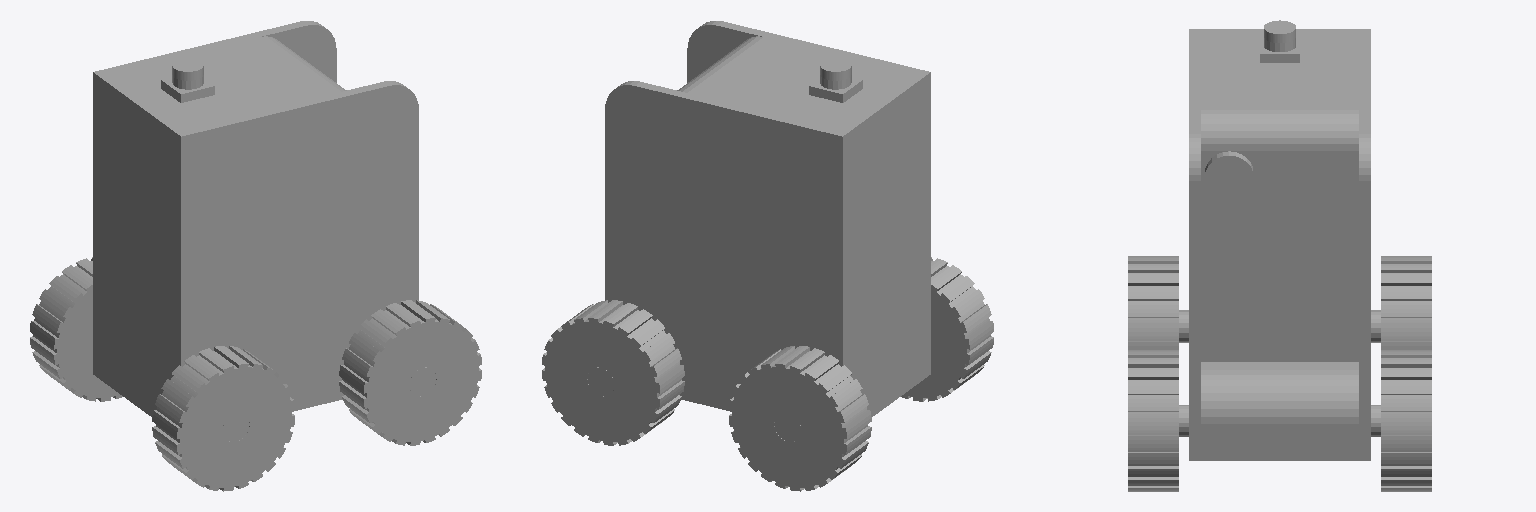
The robot description file, URDF, robot "jannat2":
<?xml version="1.0" encoding="utf-8"?>
<!-- =================================================================================== -->
<!-- |    This document was autogenerated by xacro from jannat2.xacro                  | -->
<!-- |    EDITING THIS FILE BY HAND IS NOT RECOMMENDED                                 | -->
<!-- =================================================================================== -->
<robot name="jannat2">
  <material name="silver">
    <color rgba="0.700 0.700 0.700 1.000"/>
  </material>
  <transmission name="wheel1_jt_tran">
    <type>transmission_interface/SimpleTransmission</type>
    <joint name="wheel1_jt">
      <hardwareInterface>hardware_interface/EffortJointInterface</hardwareInterface>
    </joint>
    <actuator name="wheel1_jt_actr">
      <hardwareInterface>hardware_interface/EffortJointInterface</hardwareInterface>
      <mechanicalReduction>1</mechanicalReduction>
    </actuator>
  </transmission>
  <transmission name="wheel3_jt_tran">
    <type>transmission_interface/SimpleTransmission</type>
    <joint name="wheel3_jt">
      <hardwareInterface>hardware_interface/EffortJointInterface</hardwareInterface>
    </joint>
    <actuator name="wheel3_jt_actr">
      <hardwareInterface>hardware_interface/EffortJointInterface</hardwareInterface>
      <mechanicalReduction>1</mechanicalReduction>
    </actuator>
  </transmission>
  <transmission name="wheel2_jt_tran">
    <type>transmission_interface/SimpleTransmission</type>
    <joint name="wheel2_jt">
      <hardwareInterface>hardware_interface/EffortJointInterface</hardwareInterface>
    </joint>
    <actuator name="wheel2_jt_actr">
      <hardwareInterface>hardware_interface/EffortJointInterface</hardwareInterface>
      <mechanicalReduction>1</mechanicalReduction>
    </actuator>
  </transmission>
  <transmission name="wheel4_jt_tran">
    <type>transmission_interface/SimpleTransmission</type>
    <joint name="wheel4_jt">
      <hardwareInterface>hardware_interface/EffortJointInterface</hardwareInterface>
    </joint>
    <actuator name="wheel4_jt_actr">
      <hardwareInterface>hardware_interface/EffortJointInterface</hardwareInterface>
      <mechanicalReduction>1</mechanicalReduction>
    </actuator>
  </transmission>
  <gazebo reference="base_link">
    <material>Gazebo/White</material>
  </gazebo>
  <gazebo reference="wheel_1_1">
    <material>Gazebo/Grey</material>
  </gazebo>
  <gazebo reference="wheel_3_1">
    <material>Gazebo/Grey</material>
  </gazebo>
  <gazebo reference="wheel_2_1">
    <material>Gazebo/Grey</material>
  </gazebo>
  <gazebo reference="wheel_4_1">
    <material>Gazebo/Grey</material>
  </gazebo>
  <gazebo reference="lidar_1_1">
    <material>Gazebo/Black</material>
  </gazebo>
  <gazebo reference="base_link">
    <mu1>100</mu1>
    <mu2>100</mu2>
    <selfCollide>true</selfCollide>
    <gravity>true</gravity>
  </gazebo>
  <gazebo reference="wheel_1_1">
    <mu1>100</mu1>
    <mu2>100</mu2>
    <selfCollide>true</selfCollide>
  </gazebo>
  <gazebo reference="wheel_3_1">
    <mu1>100</mu1>
    <mu2>100</mu2>
    <selfCollide>true</selfCollide>
  </gazebo>
  <gazebo reference="wheel_2_1">
    <mu1>100</mu1>
    <mu2>100</mu2>
    <selfCollide>true</selfCollide>
  </gazebo>
  <gazebo reference="wheel_4_1">
    <mu1>100</mu1>
    <mu2>100</mu2>
    <selfCollide>true</selfCollide>
  </gazebo>
  <gazebo reference="lidar_1_1">
    <mu1>100</mu1>
    <mu2>100</mu2>
    <selfCollide>true</selfCollide>
  </gazebo>
  <gazebo>
    <plugin filename="libgazebo_ros_control.so" name="control"/>
  </gazebo>
  <gazebo>
    <plugin filename="libgazebo_ros_skid_steer_drive.so" name="skid_steer_drive_controller">
      <updateRate>100.0</updateRate>
      <robotNamespace>/</robotNamespace>
      <leftFrontJoint>wheel1_jt</leftFrontJoint>
      <rightFrontJoint>wheel2_jt</rightFrontJoint>
      <leftRearJoint>wheel3_jt</leftRearJoint>
      <rightRearJoint>wheel4_jt</rightRearJoint>
      <robotBaseFrame>base_link</robotBaseFrame>
      <torque>150</torque>
      <topicName>cmd_vel</topicName>
      <broadcastTF>false</broadcastTF>
    </plugin>
  </gazebo>
  <!-- hokuyo -->
  <gazebo reference="lidar_1_1">
    <sensor name="head_hokuyo_sensor" type="ray">
      <pose>0 0 0 0 0 0</pose>
      <visualize>true</visualize>
      <update_rate>40</update_rate>
      <ray>
        <scan>
          <horizontal>
            <samples>720</samples>
            <resolution>1</resolution>
            <min_angle>-1.570796</min_angle>
            <max_angle>1.570796</max_angle>
          </horizontal>
        </scan>
        <range>
          <min>0.10</min>
          <max>30.0</max>
          <resolution>0.01</resolution>
        </range>
        <noise>
          <type>gaussian</type>
          <!-- Noise parameters based on published spec for Hokuyo laser
               achieving "+-30mm" accuracy at range < 10m.  A mean of 0.0m and
               stddev of 0.01m will put 99.7% of samples within 0.03m of the true
               reading. -->
          <mean>0.0</mean>
          <stddev>0.01</stddev>
        </noise>
      </ray>
      <plugin filename="libgazebo_ros_laser.so" name="gazebo_ros_head_hokuyo_controller">
        <topicName>/scan</topicName>
        <frameName>lidar_1_1</frameName>
      </plugin>
    </sensor>
  </gazebo>
  <link name="base_link">
    <inertial>
      <origin rpy="0 0 0" xyz="-0.01821202435043162 1.756992283751737e-16 0.40253459213374404"/>
      <mass value="146.29832639048317"/>
      <inertia ixx="14.775068" ixy="-0.0" ixz="0.783456" iyy="17.891392" iyz="0.0" izz="10.567005"/>
    </inertial>
    <visual>
      <origin rpy="0 0 0" xyz="0 0 0"/>
      <geometry>
        <mesh filename="package://jannat2_description/meshes/base_link.stl" scale="0.001 0.001 0.001"/>
      </geometry>
      <material name="silver"/>
    </visual>
    <collision>
      <origin rpy="0 0 0" xyz="0 0 0"/>
      <geometry>
        <mesh filename="package://jannat2_description/meshes/base_link.stl" scale="0.001 0.001 0.001"/>
      </geometry>
    </collision>
  </link>
  <link name="wheel_1_1">
    <inertial>
      <origin rpy="0 0 0" xyz="0.0 0.06249999999999983 0.0"/>
      <mass value="17.809629848338286"/>
      <inertia ixx="0.162032" ixy="0.0" ixz="0.0" iyy="0.277686" iyz="0.0" izz="0.162032"/>
    </inertial>
    <visual>
      <origin rpy="0 0 0" xyz="-0.275 0.375 -0.175"/>
      <geometry>
        <mesh filename="package://jannat2_description/meshes/wheel_1_1.stl" scale="0.001 0.001 0.001"/>
      </geometry>
      <material name="silver"/>
    </visual>
    <collision>
      <origin rpy="0 0 0" xyz="-0.275 0.375 -0.175"/>
      <geometry>
        <mesh filename="package://jannat2_description/meshes/wheel_1_1.stl" scale="0.001 0.001 0.001"/>
      </geometry>
    </collision>
  </link>
  <link name="wheel_3_1">
    <inertial>
      <origin rpy="0 0 0" xyz="-5.551115123125783e-17 0.06249999999999983 -1.942890293094024e-16"/>
      <mass value="17.80962984833829"/>
      <inertia ixx="0.162032" ixy="-0.0" ixz="-0.0" iyy="0.277686" iyz="-0.0" izz="0.162032"/>
    </inertial>
    <visual>
      <origin rpy="0 0 0" xyz="0.275 0.375 -0.175"/>
      <geometry>
        <mesh filename="package://jannat2_description/meshes/wheel_3_1.stl" scale="0.001 0.001 0.001"/>
      </geometry>
      <material name="silver"/>
    </visual>
    <collision>
      <origin rpy="0 0 0" xyz="0.275 0.375 -0.175"/>
      <geometry>
        <mesh filename="package://jannat2_description/meshes/wheel_3_1.stl" scale="0.001 0.001 0.001"/>
      </geometry>
    </collision>
  </link>
  <link name="wheel_2_1">
    <inertial>
      <origin rpy="0 0 0" xyz="5.551115123125783e-17 -0.06249999999999983 -1.942890293094024e-16"/>
      <mass value="17.80962984833829"/>
      <inertia ixx="0.162032" ixy="-0.0" ixz="0.0" iyy="0.277686" iyz="0.0" izz="0.162032"/>
    </inertial>
    <visual>
      <origin rpy="0 0 0" xyz="-0.275 -0.375 -0.175"/>
      <geometry>
        <mesh filename="package://jannat2_description/meshes/wheel_2_1.stl" scale="0.001 0.001 0.001"/>
      </geometry>
      <material name="silver"/>
    </visual>
    <collision>
      <origin rpy="0 0 0" xyz="-0.275 -0.375 -0.175"/>
      <geometry>
        <mesh filename="package://jannat2_description/meshes/wheel_2_1.stl" scale="0.001 0.001 0.001"/>
      </geometry>
    </collision>
  </link>
  <link name="wheel_4_1">
    <inertial>
      <origin rpy="0 0 0" xyz="0.0 -0.06249999999999983 0.0"/>
      <mass value="17.809629848338286"/>
      <inertia ixx="0.162032" ixy="0.0" ixz="-0.0" iyy="0.277686" iyz="-0.0" izz="0.162032"/>
    </inertial>
    <visual>
      <origin rpy="0 0 0" xyz="0.275 -0.375 -0.175"/>
      <geometry>
        <mesh filename="package://jannat2_description/meshes/wheel_4_1.stl" scale="0.001 0.001 0.001"/>
      </geometry>
      <material name="silver"/>
    </visual>
    <collision>
      <origin rpy="0 0 0" xyz="0.275 -0.375 -0.175"/>
      <geometry>
        <mesh filename="package://jannat2_description/meshes/wheel_4_1.stl" scale="0.001 0.001 0.001"/>
      </geometry>
    </collision>
  </link>
  <link name="lidar_1_1">
    <inertial>
      <origin rpy="0 0 0" xyz="-2.7755575615628914e-17 9.046911093940672e-18 0.012499999999999956"/>
      <mass value="0.17907078125461814"/>
      <inertia ixx="8.1e-05" ixy="-0.0" ixz="0.0" iyy="8.1e-05" iyz="0.0" izz="0.000143"/>
    </inertial>
    <visual>
      <origin rpy="0 0 0" xyz="0.2 -0.0 -1.0"/>
      <geometry>
        <mesh filename="package://jannat2_description/meshes/lidar_1_1.stl" scale="0.001 0.001 0.001"/>
      </geometry>
      <material name="silver"/>
    </visual>
    <collision>
      <origin rpy="0 0 0" xyz="0.2 -0.0 -1.0"/>
      <geometry>
        <mesh filename="package://jannat2_description/meshes/lidar_1_1.stl" scale="0.001 0.001 0.001"/>
      </geometry>
    </collision>
  </link>
  <joint name="wheel1_jt" type="continuous">
    <origin rpy="0 0 0" xyz="0.275 -0.375 0.175"/>
    <parent link="base_link"/>
    <child link="wheel_1_1"/>
    <axis xyz="0.0 1.0 0.0"/>
  </joint>
  <joint name="wheel3_jt" type="continuous">
    <origin rpy="0 0 0" xyz="-0.275 -0.375 0.175"/>
    <parent link="base_link"/>
    <child link="wheel_3_1"/>
    <axis xyz="0.0 1.0 0.0"/>
  </joint>
  <joint name="wheel2_jt" type="continuous">
    <origin rpy="0 0 0" xyz="0.275 0.375 0.175"/>
    <parent link="base_link"/>
    <child link="wheel_2_1"/>
    <axis xyz="0.0 1.0 0.0"/>
  </joint>
  <joint name="wheel4_jt" type="continuous">
    <origin rpy="0 0 0" xyz="-0.275 0.375 0.175"/>
    <parent link="base_link"/>
    <child link="wheel_4_1"/>
    <axis xyz="0.0 1.0 0.0"/>
  </joint>
  <joint name="Rigid6" type="fixed">
    <origin rpy="0 0 0" xyz="-0.2 0.0 1.0"/>
    <parent link="base_link"/>
    <child link="lidar_1_1"/>
  </joint>
</robot>

--- What the picture shows (computed from the rendered views, not written in the file) ---
Views: 3 orthographic renders of the robot side by side, from view 1: azimuth 30°, elevation 25°; view 2: azimuth 150°, elevation 25°; view 3: azimuth 270°, elevation 25°.
Robot: jannat2 — 6 links, 5 joints (4 continuous, 1 fixed); root link base_link; default pose: every joint at zero.
Links seen in each view (by area): view 1: base_link, wheel_1_1, wheel_3_1, wheel_4_1, lidar_1_1; view 2: base_link, wheel_2_1, wheel_4_1, wheel_3_1, lidar_1_1; view 3: base_link, wheel_1_1, wheel_2_1, wheel_3_1, wheel_4_1, lidar_1_1.
Boxes of the visible links, bbox=[...] form: base_link: bbox=[93, 21, 436, 441]; wheel_1_1: bbox=[339, 300, 481, 445]; wheel_3_1: bbox=[152, 346, 294, 491]; wheel_4_1: bbox=[30, 257, 122, 401]; lidar_1_1: bbox=[172, 59, 203, 80]; base_link: bbox=[587, 21, 930, 441]; wheel_2_1: bbox=[542, 300, 684, 445]; wheel_4_1: bbox=[729, 346, 871, 491]; wheel_3_1: bbox=[901, 257, 993, 401]; lidar_1_1: bbox=[820, 59, 851, 80]; base_link: bbox=[1179, 29, 1380, 460]; wheel_1_1: bbox=[1128, 350, 1178, 491]; wheel_2_1: bbox=[1381, 350, 1431, 491]; wheel_3_1: bbox=[1128, 256, 1178, 349]; wheel_4_1: bbox=[1381, 256, 1431, 349]; lidar_1_1: bbox=[1264, 20, 1295, 42].
Size in the robot's own frame: 0.8997 by 0.75 by 1.02 metres.
6 mesh visuals loaded from 6 distinct referenced files (6 binary STL).
